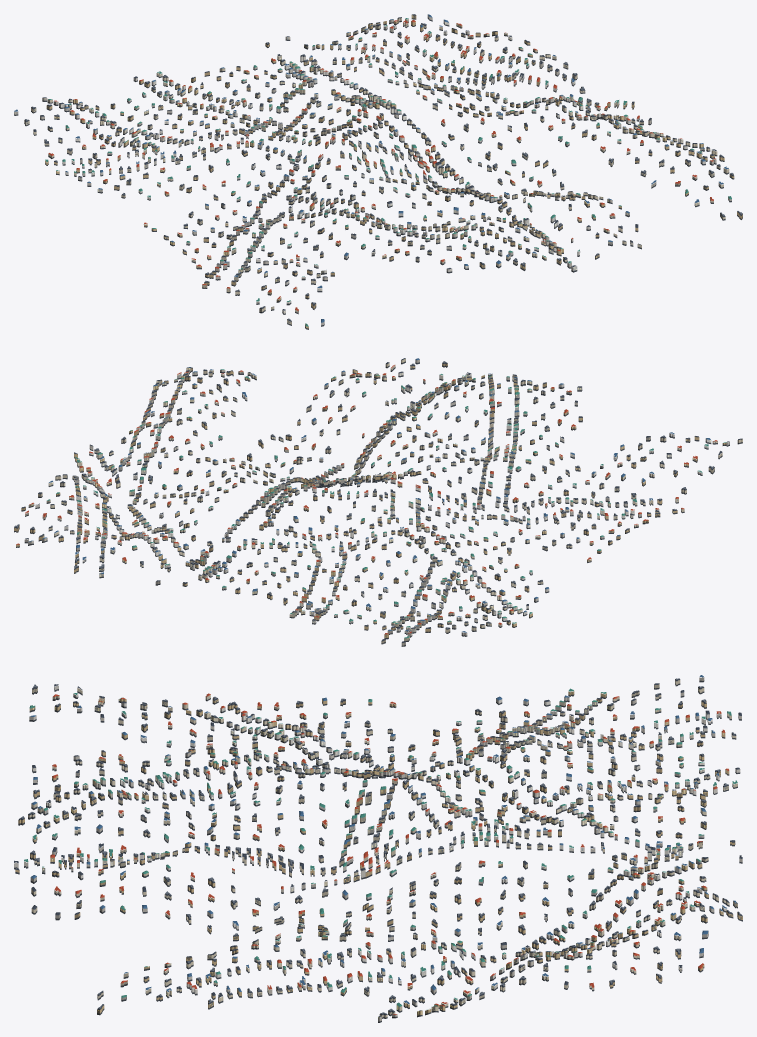
Rendered from osm_buildings_T_E00_S01.glb.
The picture shows the model from 3 angles, top to bottom: view 1: azimuth 30°, elevation 25°; view 2: azimuth 150°, elevation 25°; view 3: azimuth 270°, elevation 25°; orthographic projection. The views are drawn at different scales.
Visible parts, largest first — view 1: OSM_T_E00_S01_foundation, OSM_T_E00_S01_wall_cream_stucco, OSM_T_E00_S01_wall_french_ochre, OSM_T_E00_S01_roof_mansard_slate, OSM_T_E00_S01_wall_warm_white, OSM_T_E00_S01_wall_pastel_sand, OSM_T_E00_S01_roof_mansard_deck, OSM_T_E00_S01_roof_mint_metal, OSM_T_E00_S01_roof_terracotta, OSM_T_E00_S01_roof_alpine_blue, OSM_T_E00_S01_balcony_railing; view 2: OSM_T_E00_S01_foundation, OSM_T_E00_S01_wall_cream_stucco, OSM_T_E00_S01_wall_french_ochre, OSM_T_E00_S01_roof_mansard_slate, OSM_T_E00_S01_wall_warm_white, OSM_T_E00_S01_wall_pastel_sand, OSM_T_E00_S01_roof_mansard_deck, OSM_T_E00_S01_roof_mint_metal, OSM_T_E00_S01_roof_terracotta, OSM_T_E00_S01_roof_alpine_blue; view 3: OSM_T_E00_S01_foundation, OSM_T_E00_S01_wall_cream_stucco, OSM_T_E00_S01_wall_french_ochre, OSM_T_E00_S01_roof_mansard_slate, OSM_T_E00_S01_wall_warm_white, OSM_T_E00_S01_wall_pastel_sand, OSM_T_E00_S01_roof_mansard_deck, OSM_T_E00_S01_roof_mint_metal, OSM_T_E00_S01_roof_terracotta, OSM_T_E00_S01_roof_alpine_blue, OSM_T_E00_S01_balcony_railing.
Boxes of the visible parts, x1,y1,x2,y2 form: OSM_T_E00_S01_foundation: (14, 17, 742, 329); OSM_T_E00_S01_wall_cream_stucco: (24, 18, 729, 324); OSM_T_E00_S01_wall_french_ochre: (45, 15, 742, 328); OSM_T_E00_S01_roof_mansard_slate: (25, 14, 742, 321); OSM_T_E00_S01_wall_warm_white: (59, 20, 716, 325); OSM_T_E00_S01_wall_pastel_sand: (14, 15, 731, 303); OSM_T_E00_S01_roof_mansard_deck: (25, 14, 741, 320); OSM_T_E00_S01_roof_mint_metal: (45, 18, 731, 326); OSM_T_E00_S01_roof_terracotta: (48, 20, 715, 310); OSM_T_E00_S01_roof_alpine_blue: (14, 14, 728, 322); OSM_T_E00_S01_balcony_railing: (27, 16, 742, 323); OSM_T_E00_S01_foundation: (14, 361, 742, 646); OSM_T_E00_S01_wall_cream_stucco: (25, 359, 742, 643); OSM_T_E00_S01_wall_french_ochre: (14, 363, 726, 637); OSM_T_E00_S01_roof_mansard_slate: (14, 358, 742, 642); OSM_T_E00_S01_wall_warm_white: (28, 372, 729, 633); OSM_T_E00_S01_wall_pastel_sand: (24, 359, 702, 645); OSM_T_E00_S01_roof_mansard_deck: (14, 361, 738, 640); OSM_T_E00_S01_roof_mint_metal: (47, 369, 726, 638); OSM_T_E00_S01_roof_terracotta: (16, 365, 717, 634); OSM_T_E00_S01_roof_alpine_blue: (29, 358, 710, 632); OSM_T_E00_S01_foundation: (14, 680, 742, 1022); OSM_T_E00_S01_wall_cream_stucco: (28, 680, 737, 1017); OSM_T_E00_S01_wall_french_ochre: (15, 691, 742, 1015); OSM_T_E00_S01_roof_mansard_slate: (14, 679, 742, 1017); OSM_T_E00_S01_wall_warm_white: (14, 685, 740, 1016); OSM_T_E00_S01_wall_pastel_sand: (24, 677, 742, 1021); OSM_T_E00_S01_roof_mansard_deck: (16, 678, 741, 1013); OSM_T_E00_S01_roof_mint_metal: (24, 688, 737, 1009); OSM_T_E00_S01_roof_terracotta: (50, 693, 728, 1014); OSM_T_E00_S01_roof_alpine_blue: (30, 675, 737, 1003); OSM_T_E00_S01_balcony_railing: (33, 689, 741, 1012).
Bounding box in the file's own units: 1981 × 221 × 1964.
